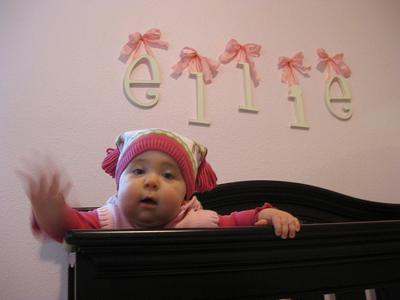person: (18, 128, 301, 239)
